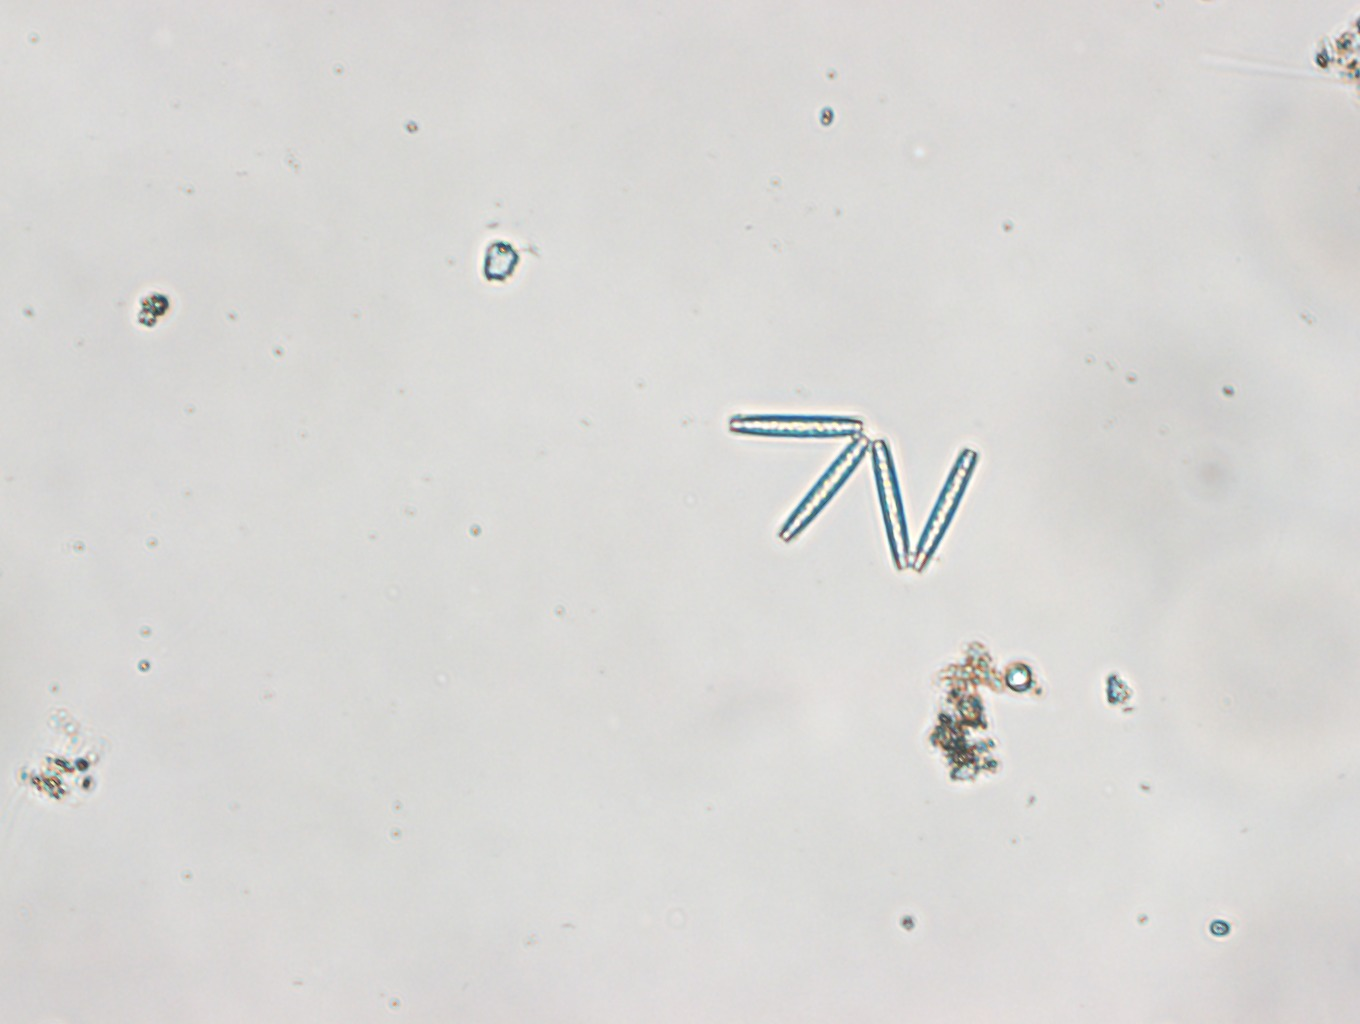thalassionema nitzschioides: (730, 414, 979, 575)
